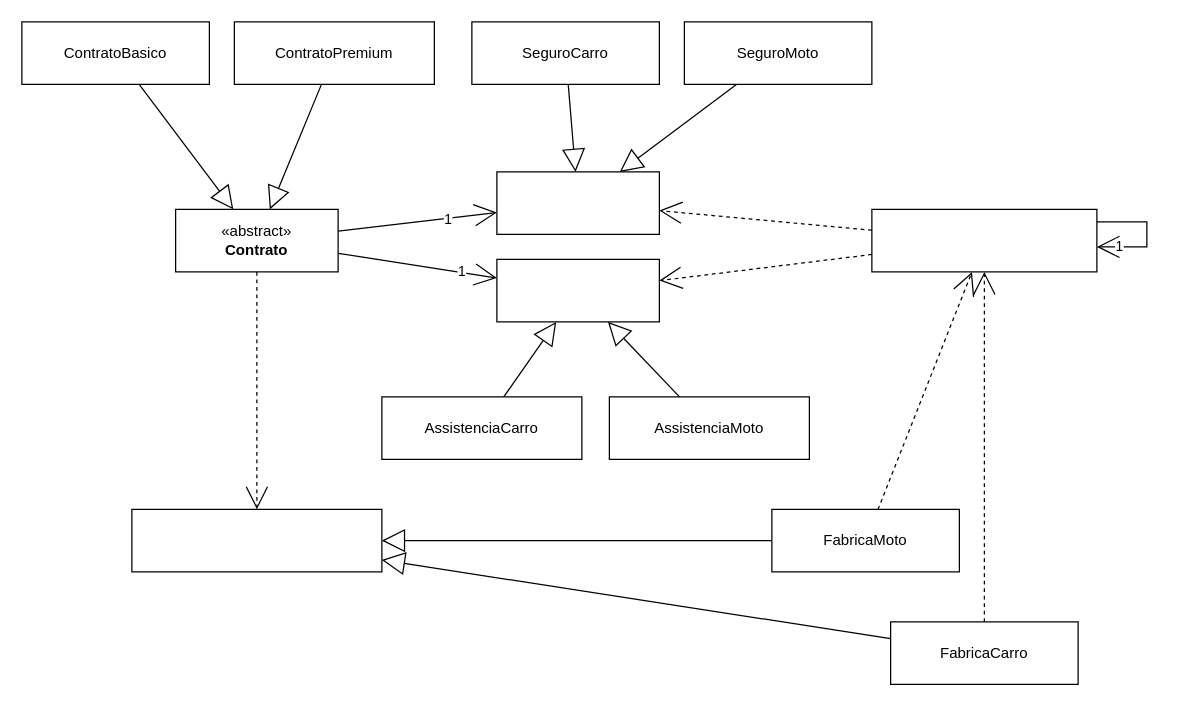
Some shapes in this 1191 by 706 pixel diagram are drawn without their labels. The centre of each missing label's shape, as x and y in pixels:
"SeguroFabrica" goes at point (984, 240).
"«interface» Assistencia" goes at point (577, 290).
"«interface» FabricaAbstrata" goes at point (256, 540).
"«interface» Seguro" goes at point (577, 202).
